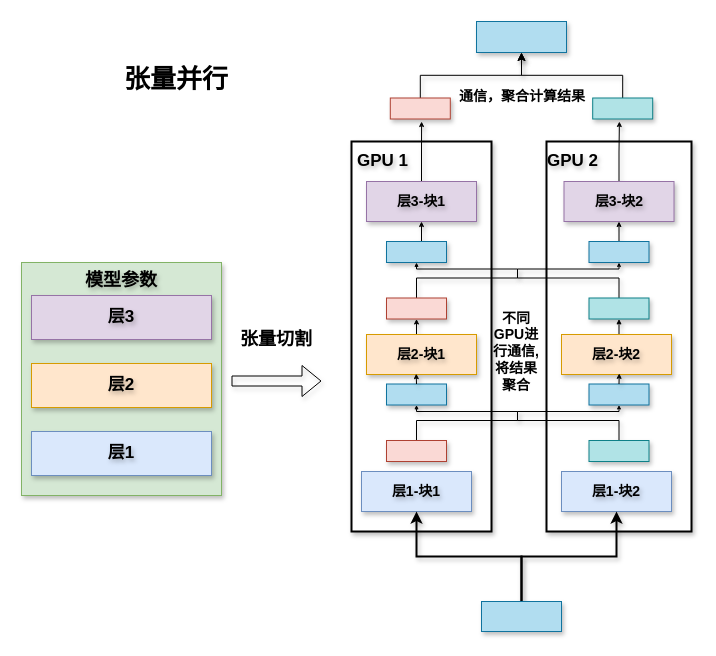
This 716x656 diagram has some shape labels left out. Here are the shapes that lost their labels. From the top down, the centre of each, then its label:
(x=522, y=38): 输出数据
(x=522, y=617): 数据
